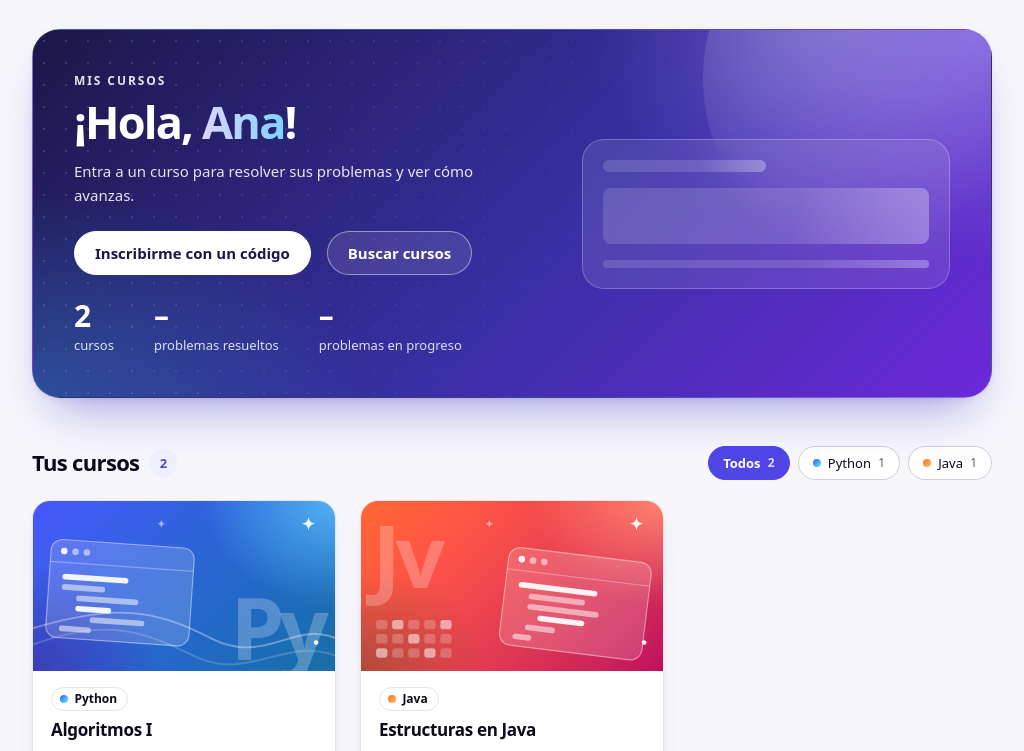
Inicio › el filtro por lenguaje deja solo los cursos de ese lenguaje
The width and height of the screenshot is (1024, 751).
What coordinates should you click on to do the following:
click the button "Java 1"
I would click on:
 (950, 463)
Its box is [908,446,992,480].
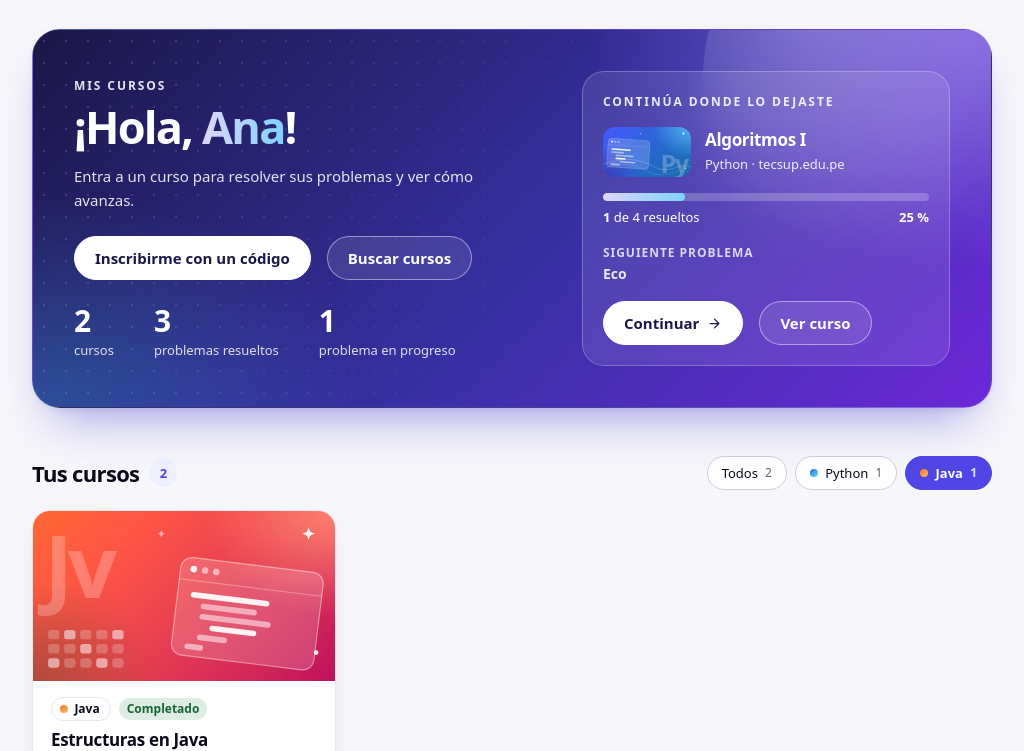
Check: the button "Java 1" is pressed, box [905,456,992,490]
What coordinates should you click on to do the following:
click the button "Todos 2"
I would click on:
 (747, 473)
Its box is [707,456,787,490].
(page scrolled)
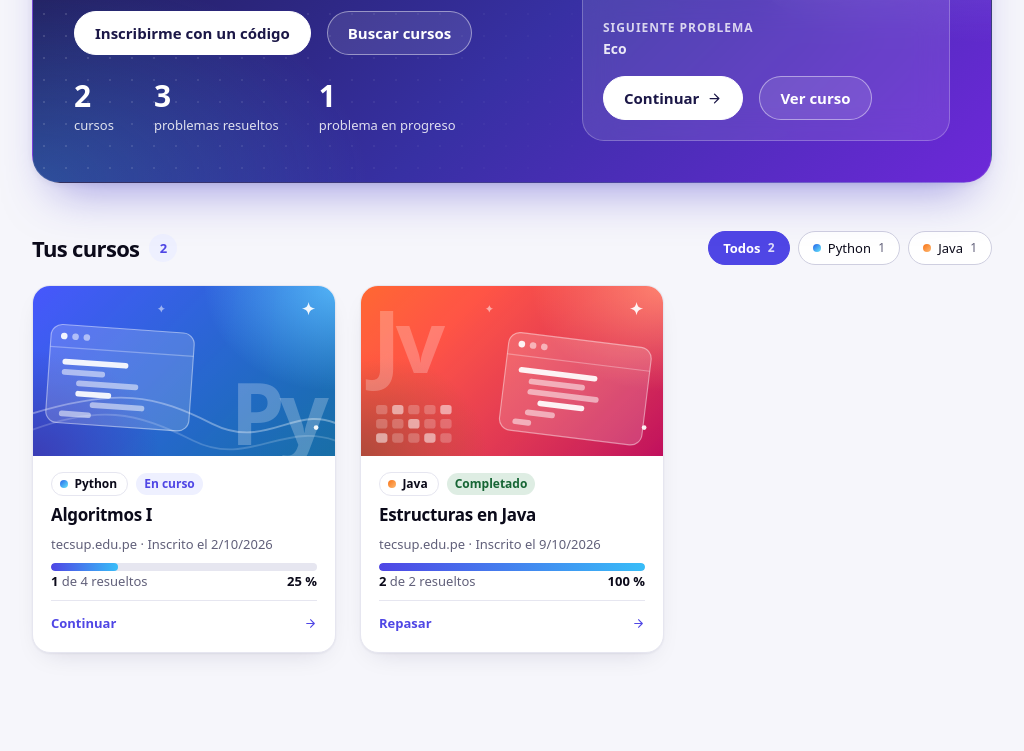
Check: the link "Algoritmos I" is shown, box [33,286,335,652]
